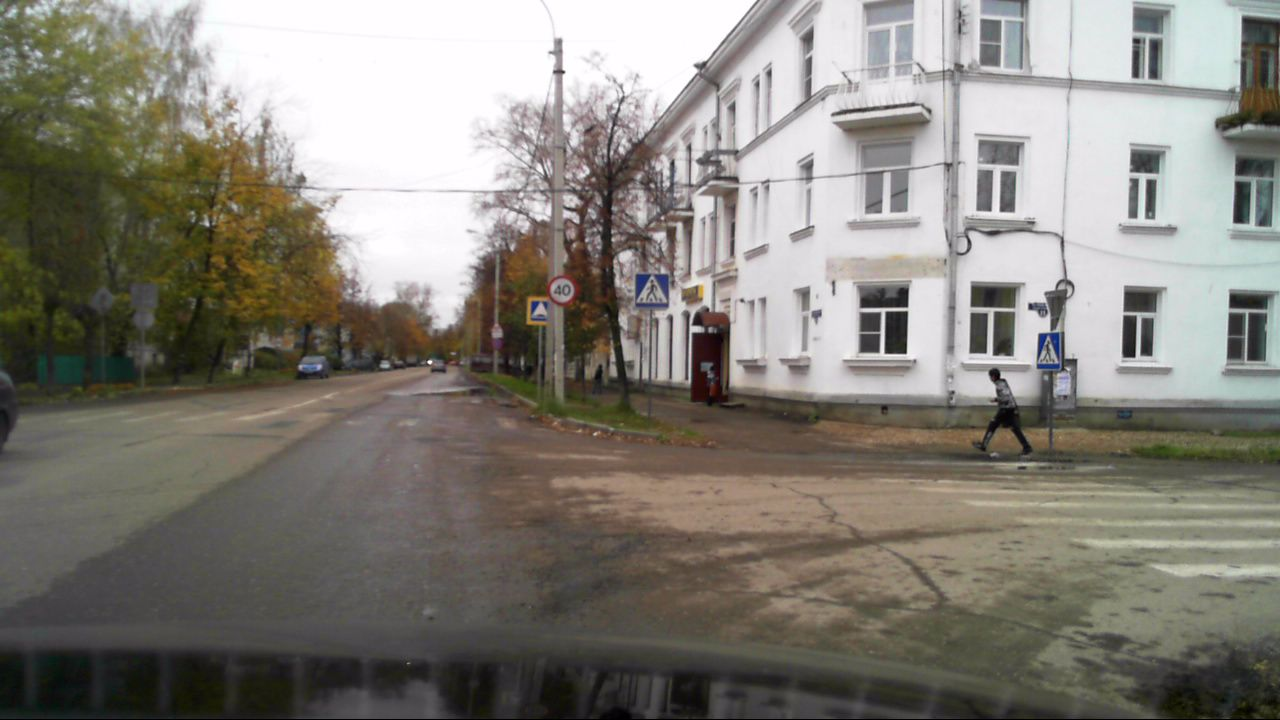speed_warning_40: (546, 275, 577, 305)
